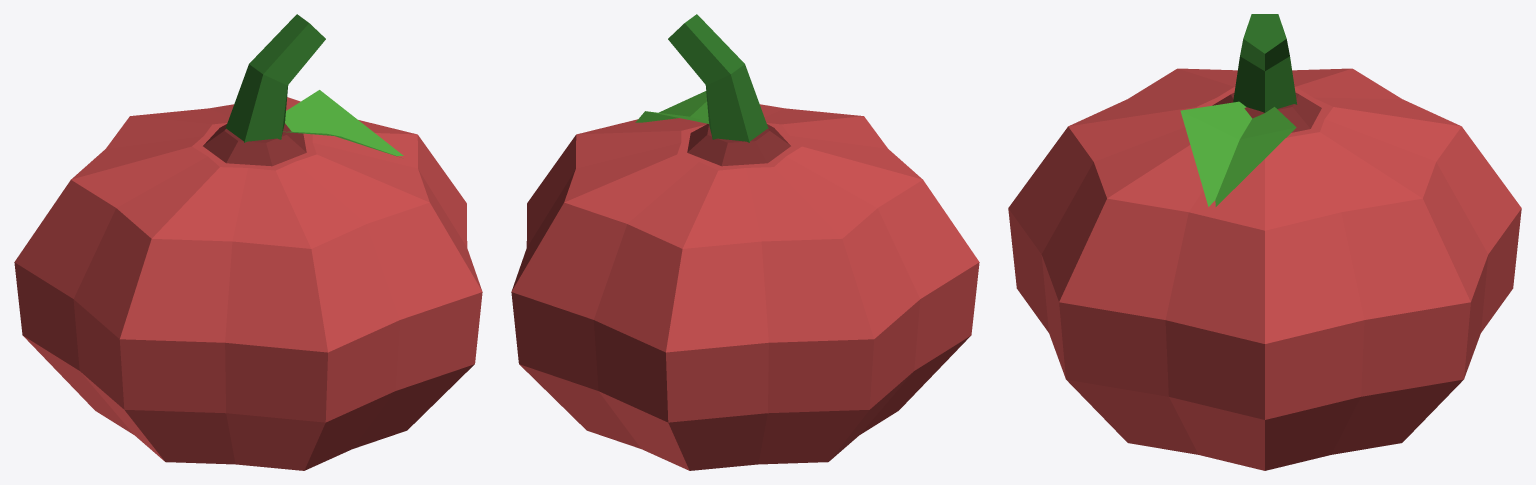
File: pumpkin.glb
3 renders of one model, left to right at view 1: azimuth 30°, elevation 25°; view 2: azimuth 150°, elevation 25°; view 3: azimuth 270°, elevation 25°, orthographic. The views are drawn at different scales.
Parts seen in each view (by area): view 1: pumpkin; view 2: pumpkin; view 3: pumpkin.
Part boxes in pixels (bbox=[...]): pumpkin: bbox=[14, 14, 482, 470]; pumpkin: bbox=[511, 14, 979, 470]; pumpkin: bbox=[1008, 14, 1521, 470].
Bounding box in the file's own units: 0.2851 × 0.2681 × 0.2925.
